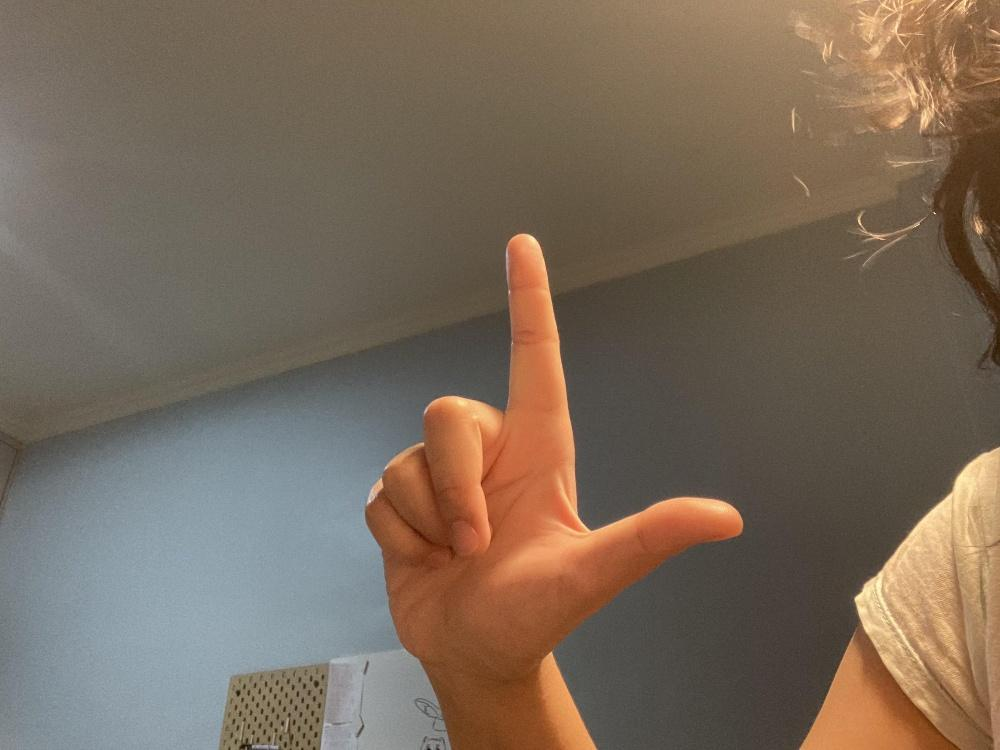l: (363, 232, 743, 679)
